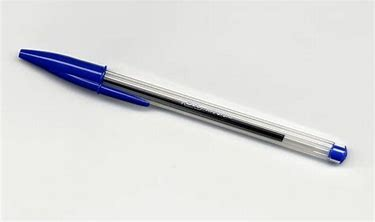pen: (16, 44, 350, 163)
